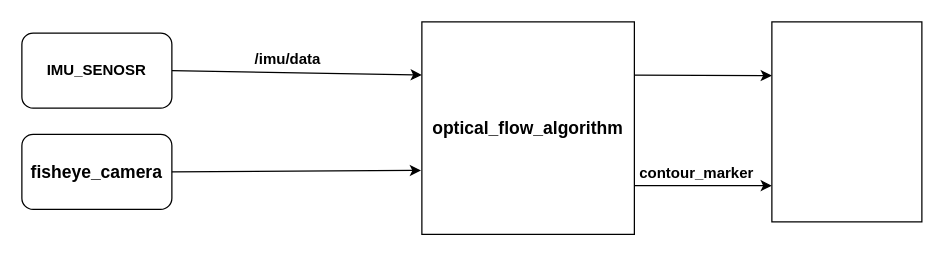
This 944x256 diagram has some shape labels left out. Each missing label, with the centre of its shape:
/usb_cam/image_raw/compressed: [293,160]
process_image: [696,62]
rviz2: [846,121]
